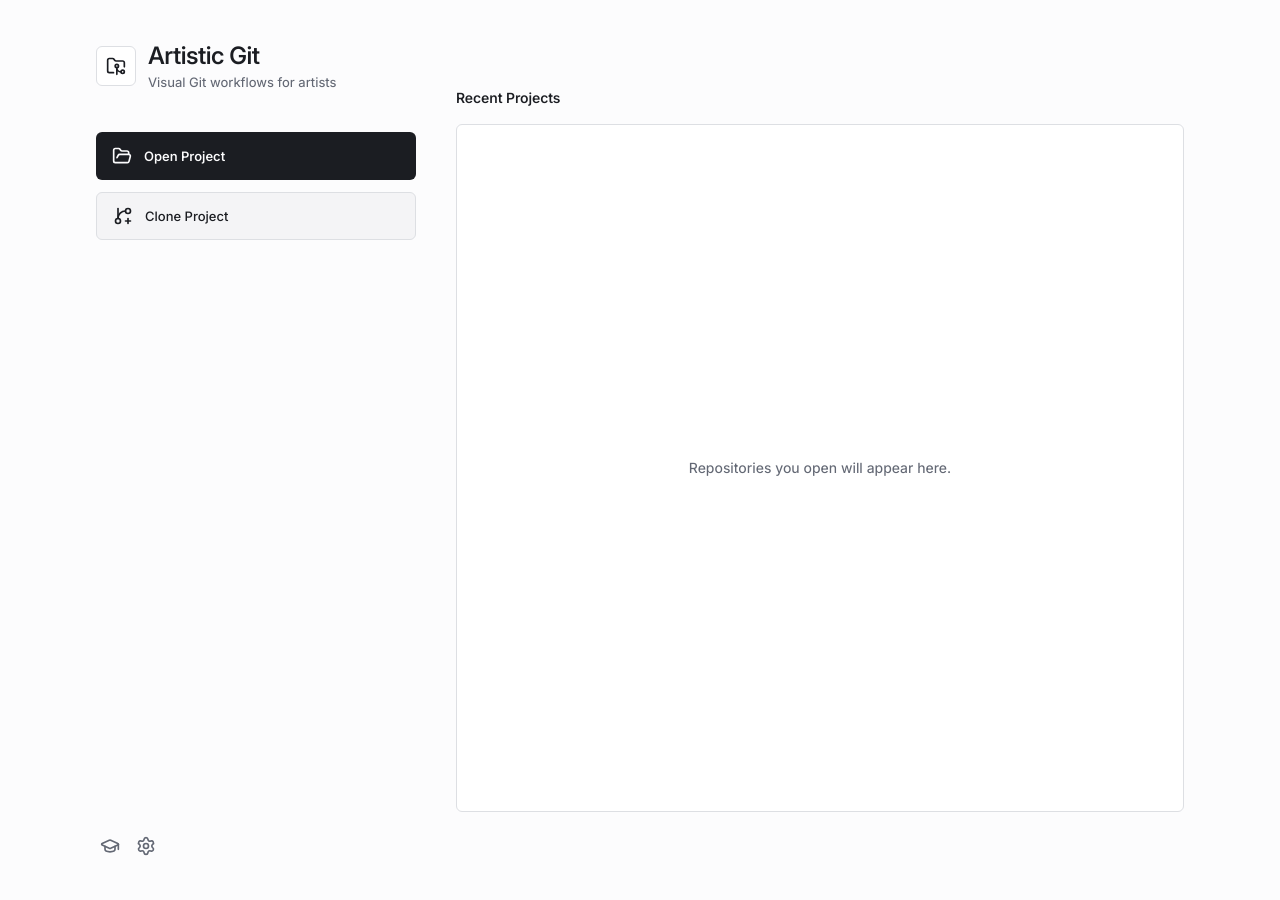
Test: StartScreen clone flow › shows automatic repository checking before the debounce elapses
Step 1. Click the button "Clone Project" → [187, 216], box [96,192,416,240]
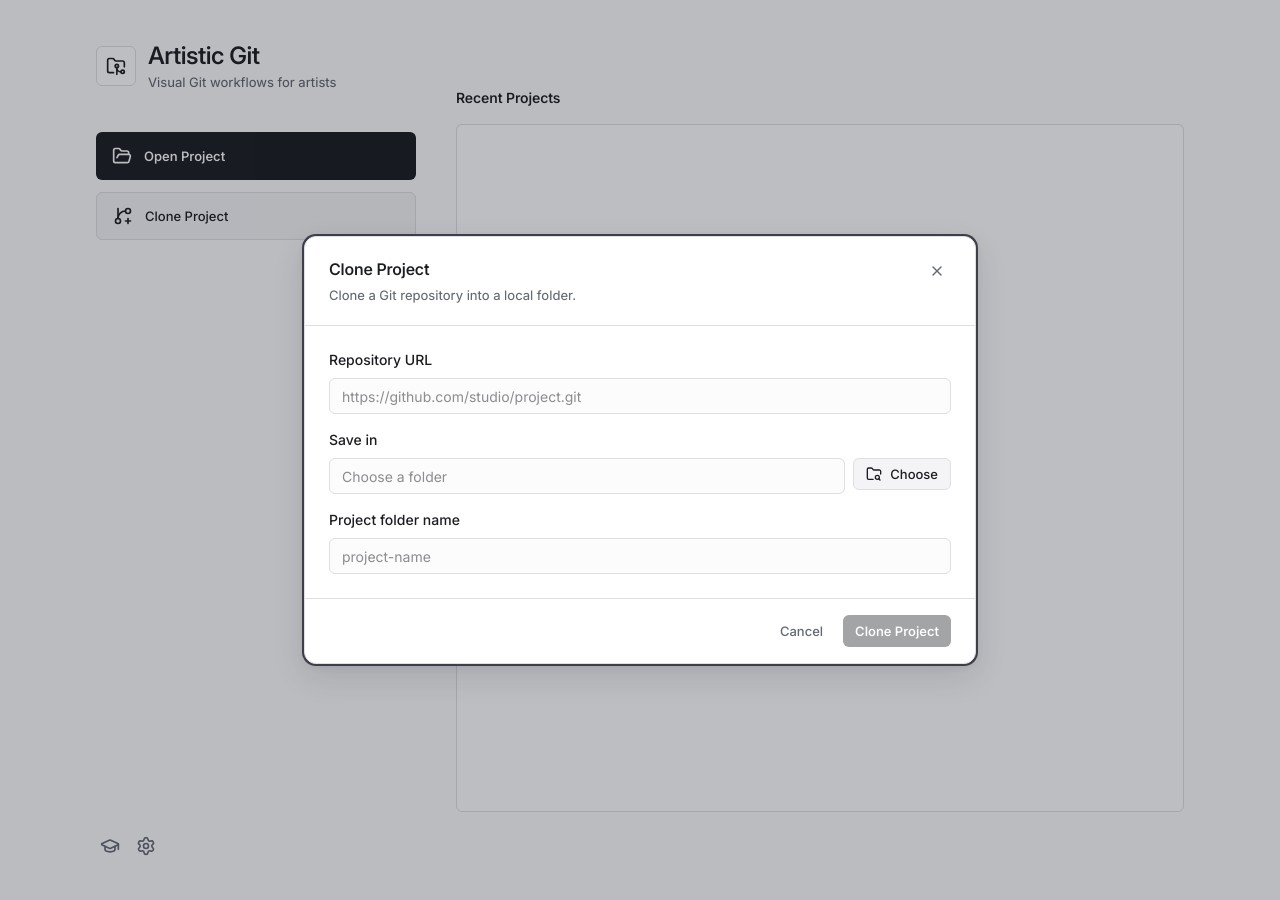
Step 2. Type "https://example.test/studio/project.git" into the field labelled "Repository URL" → [640, 396], box [329,378,951,414]
Wait 400 ms
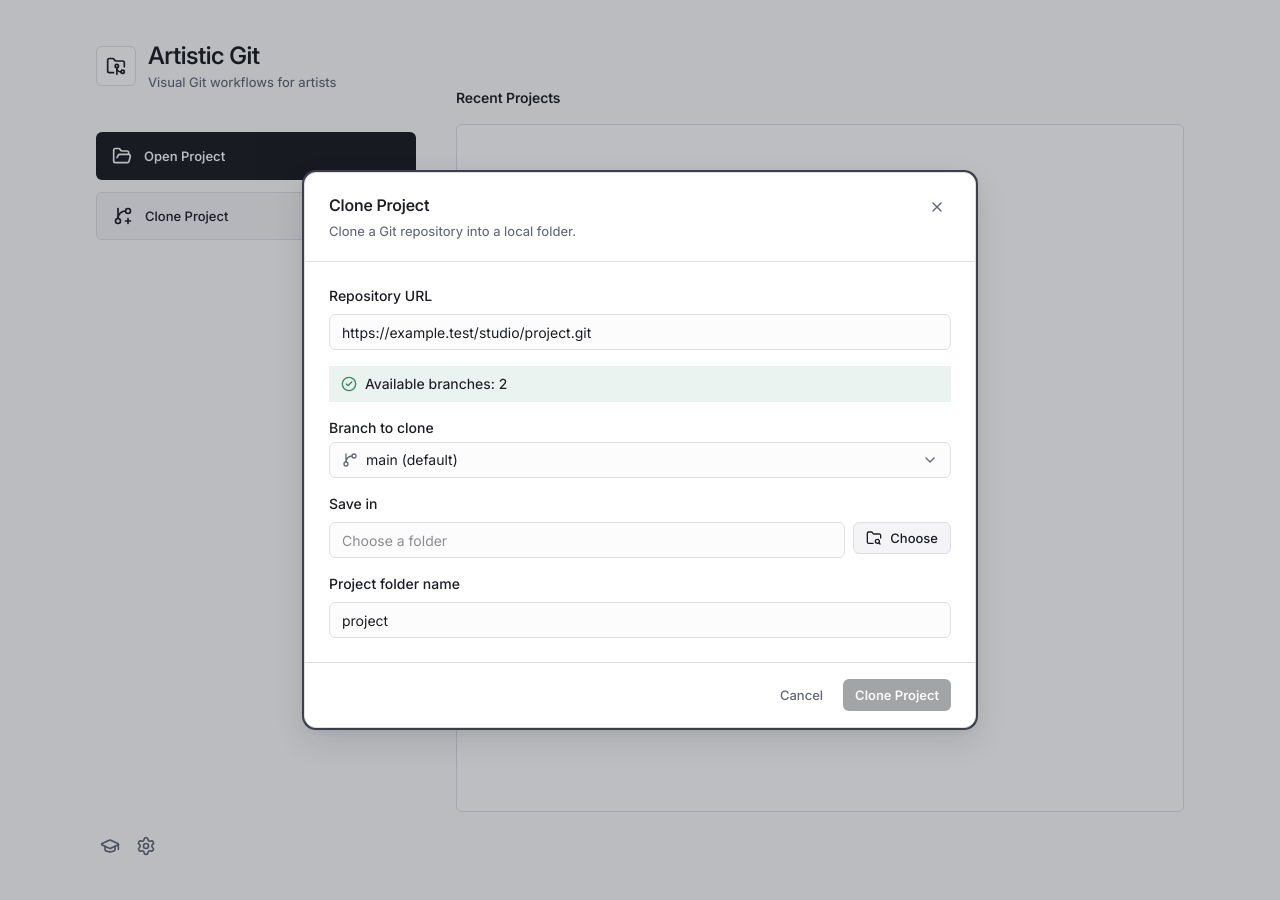
Expected: the text "Checking repository and branches..." is shown, [329,366,951,402]
